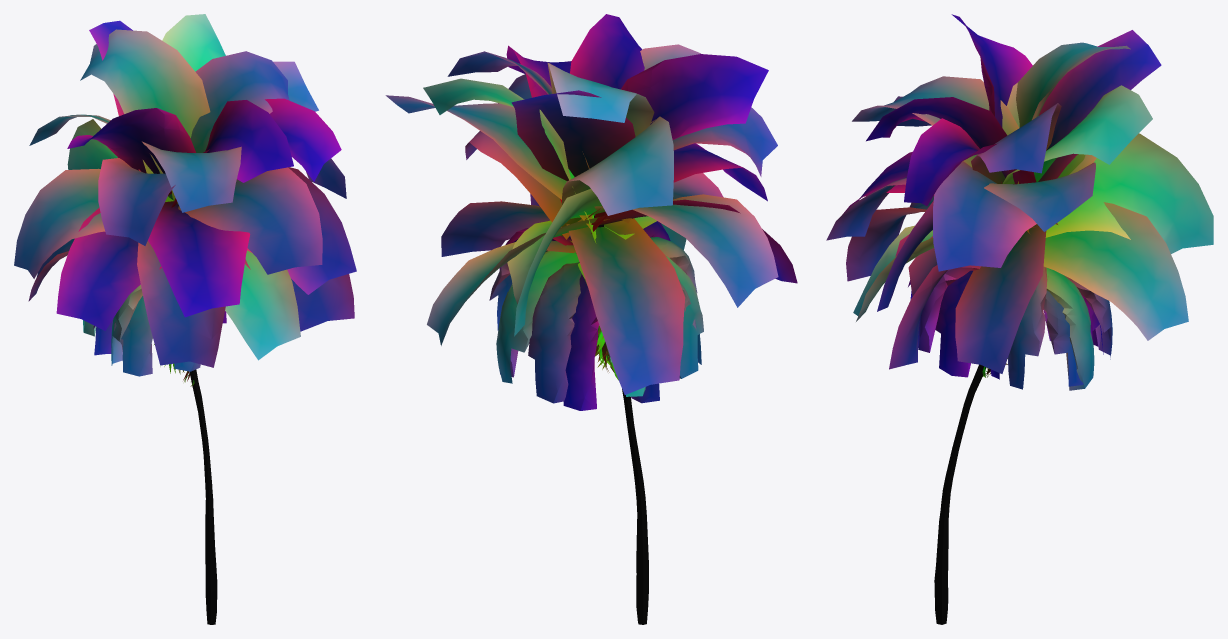
Rendered from Palm_Mesh.fbx.
3 renders of one model, left to right at view 1: azimuth 30°, elevation 25°; view 2: azimuth 150°, elevation 25°; view 3: azimuth 270°, elevation 25°, orthographic. The views are drawn at different scales.
Parts seen in each view (by area): view 1: Palm_LOD0; view 2: Palm_LOD0; view 3: Palm_LOD0.
Part boxes in pixels (x1,y1,x2,y2): Palm_LOD0: (14,14,356,624); Palm_LOD0: (385,14,797,624); Palm_LOD0: (826,14,1213,624).
Size of the model in its own units: 730 by 1234 by 753.
